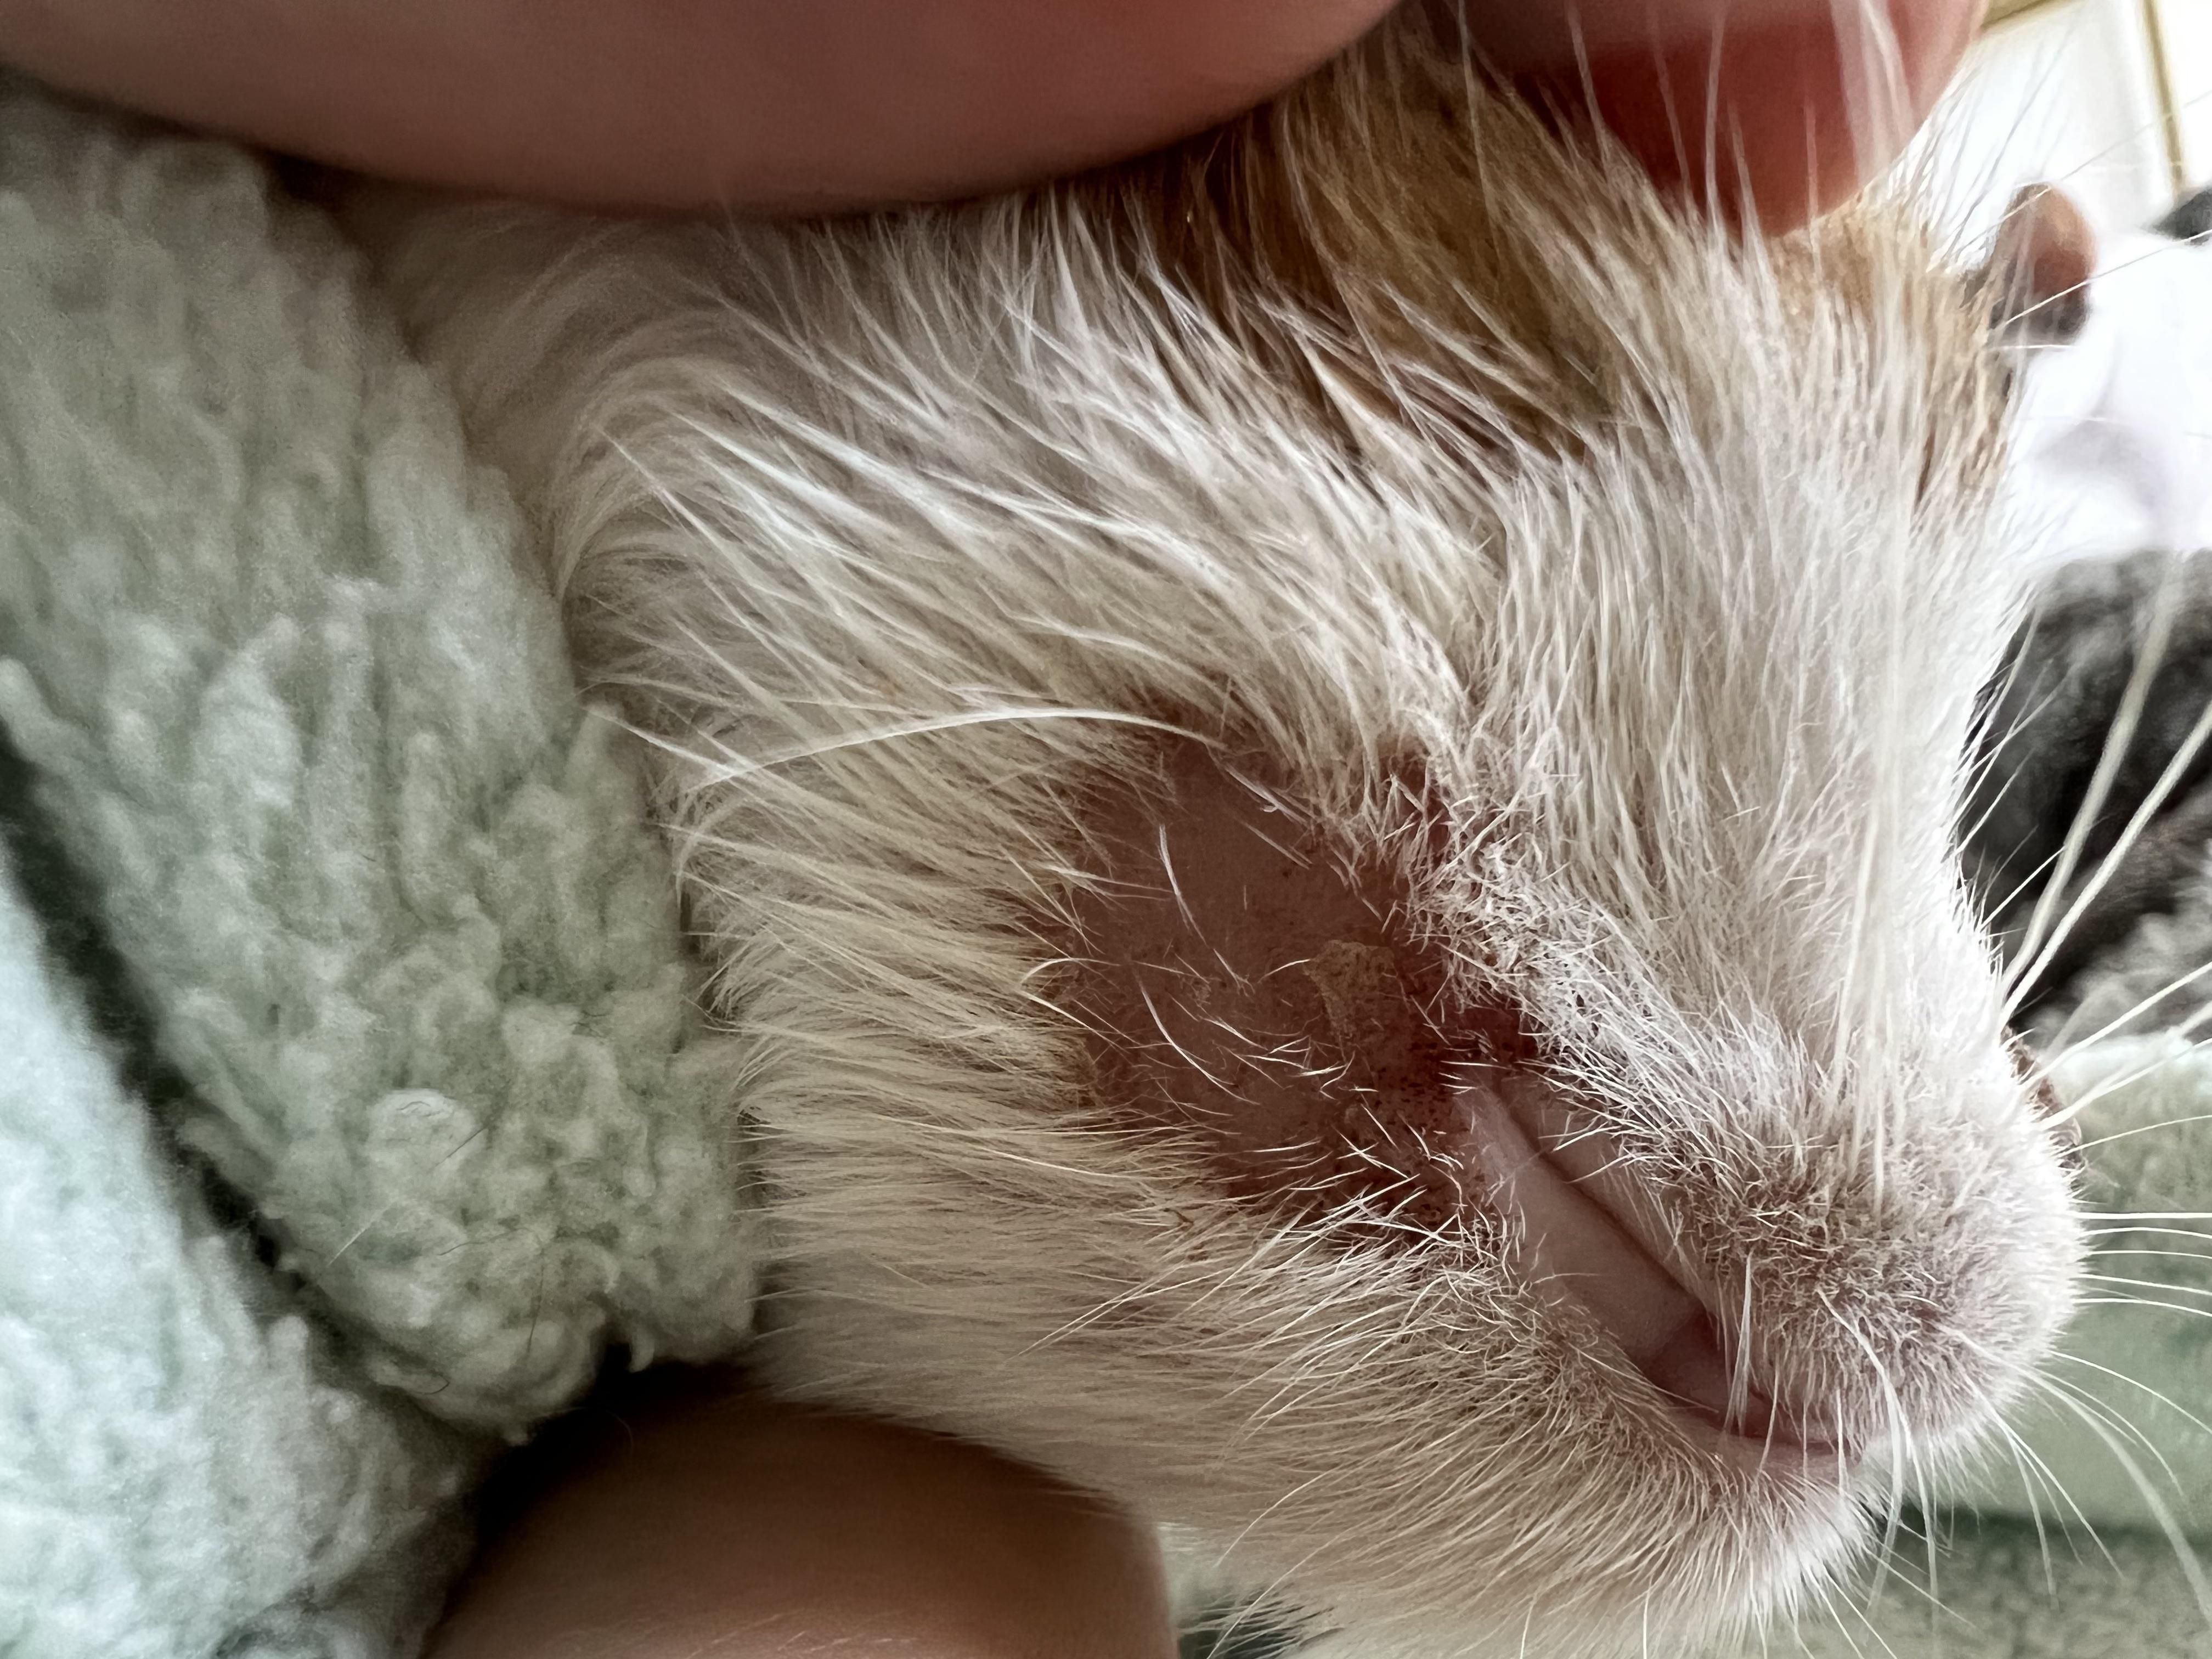ringworm: (1075, 678, 1484, 1223)
